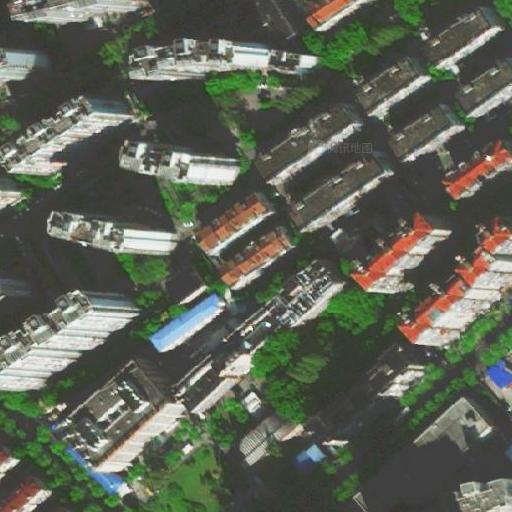building: (183, 252, 349, 409), (357, 392, 502, 511), (65, 360, 182, 476), (0, 294, 138, 392), (4, 93, 133, 181), (410, 239, 512, 348), (292, 150, 394, 231), (263, 100, 365, 180), (359, 210, 454, 293), (51, 209, 170, 256), (216, 217, 296, 286), (135, 45, 266, 84), (198, 188, 274, 252), (131, 140, 239, 185), (441, 137, 512, 202), (151, 289, 224, 351), (389, 103, 464, 163), (430, 6, 505, 65), (359, 55, 431, 114), (6, 0, 143, 28), (327, 215, 389, 276), (459, 55, 512, 117), (366, 347, 429, 397), (234, 411, 287, 463), (309, 383, 363, 431), (450, 475, 511, 511), (163, 258, 208, 304), (0, 50, 55, 85), (0, 275, 32, 319), (287, 439, 325, 473), (273, 50, 313, 80), (235, 380, 265, 411), (0, 436, 23, 470)
